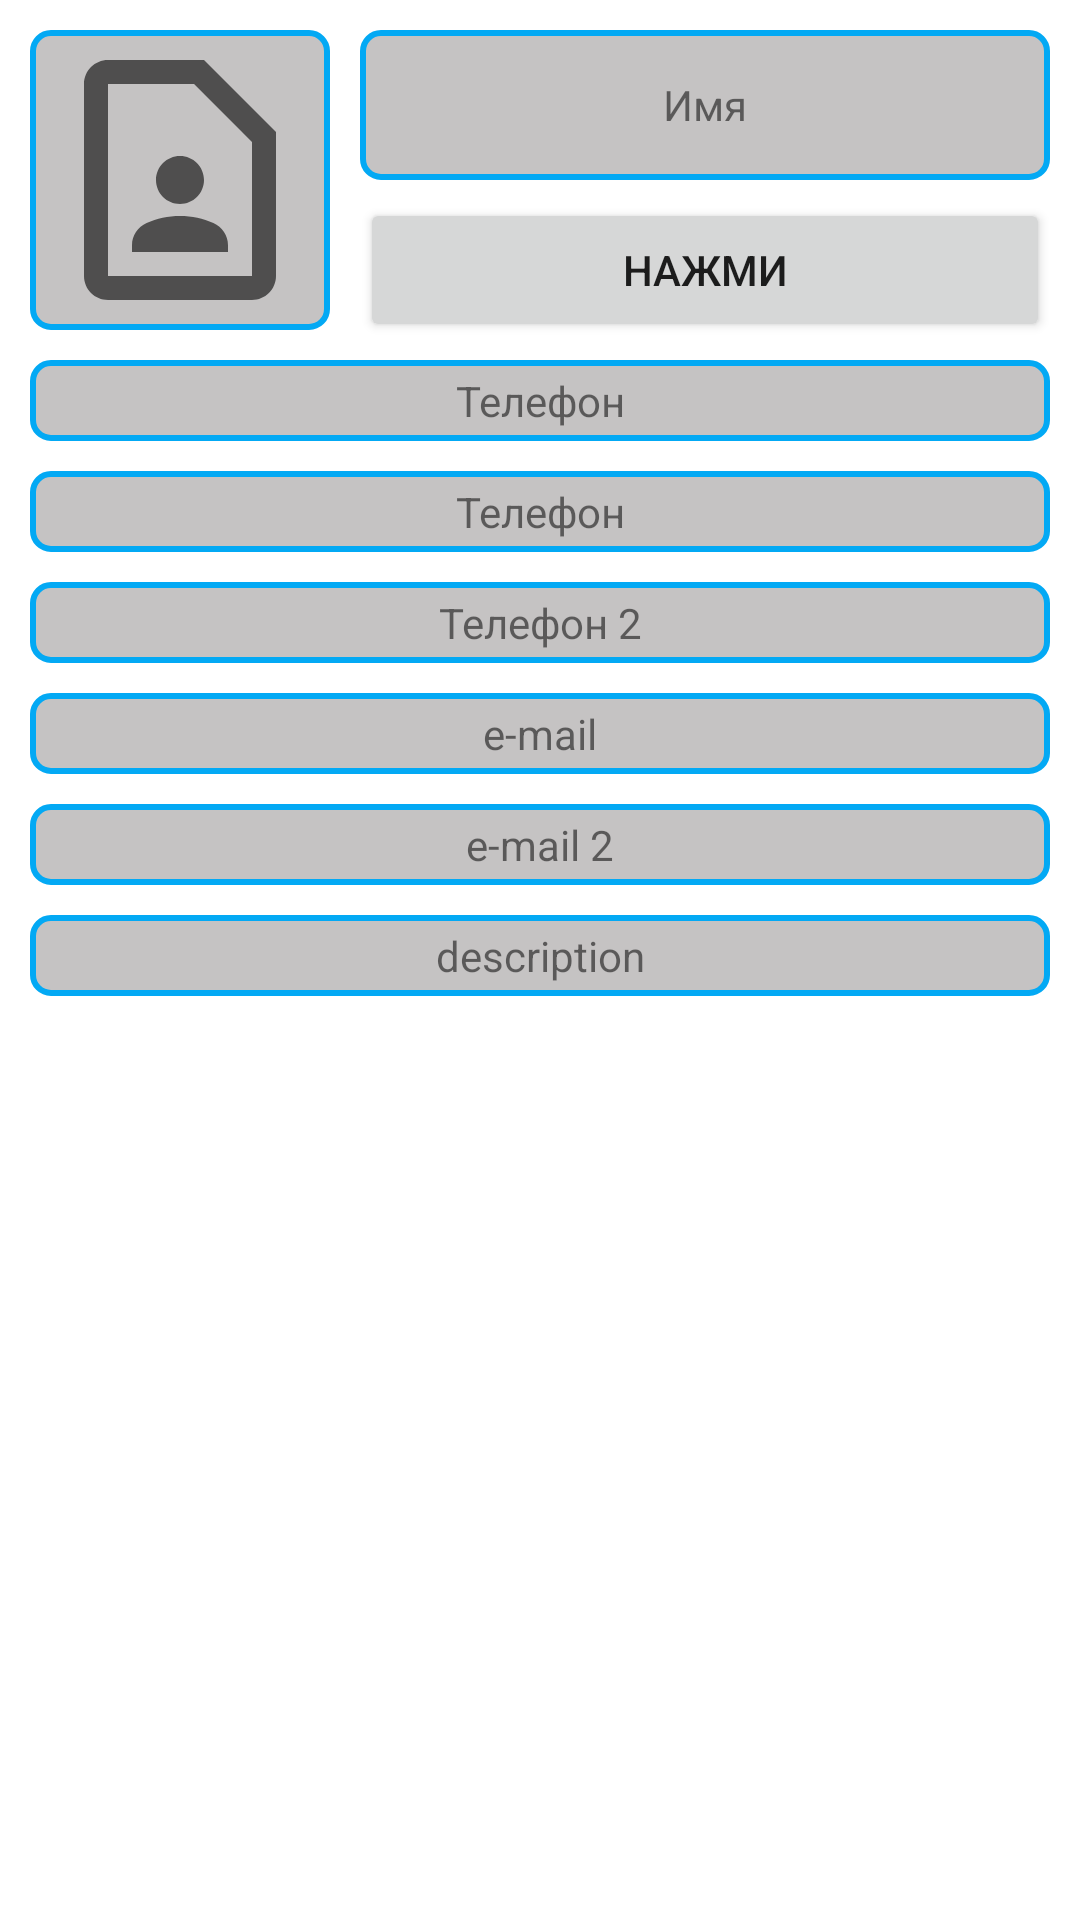

Screen size 1080*1920. Icon name, then its center in pixels as (x=x, y=y):
contact page: (x=180, y=180)
